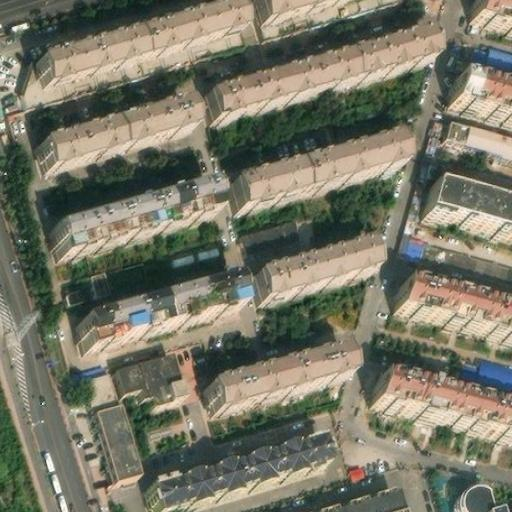building: (206, 25, 432, 120), (23, 27, 245, 104), (149, 429, 331, 509), (230, 130, 400, 205), (54, 177, 219, 254), (77, 271, 242, 347), (36, 95, 192, 167), (205, 341, 351, 408), (377, 369, 512, 434), (252, 236, 376, 301), (402, 280, 512, 334), (68, 255, 175, 302), (426, 181, 512, 233), (114, 345, 187, 401), (95, 395, 144, 474), (241, 211, 315, 262), (438, 118, 512, 158), (305, 483, 404, 512), (452, 71, 512, 114), (456, 351, 512, 393), (169, 238, 225, 276), (462, 475, 512, 512), (479, 46, 512, 70)
